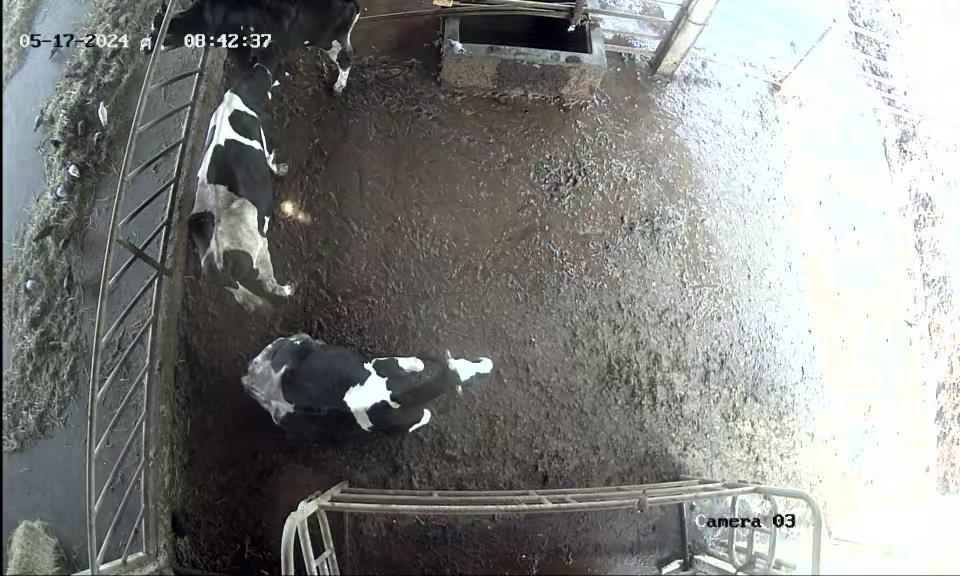eat: (113, 2, 243, 58)
lay: (210, 323, 512, 452)
stand: (187, 37, 315, 320)
